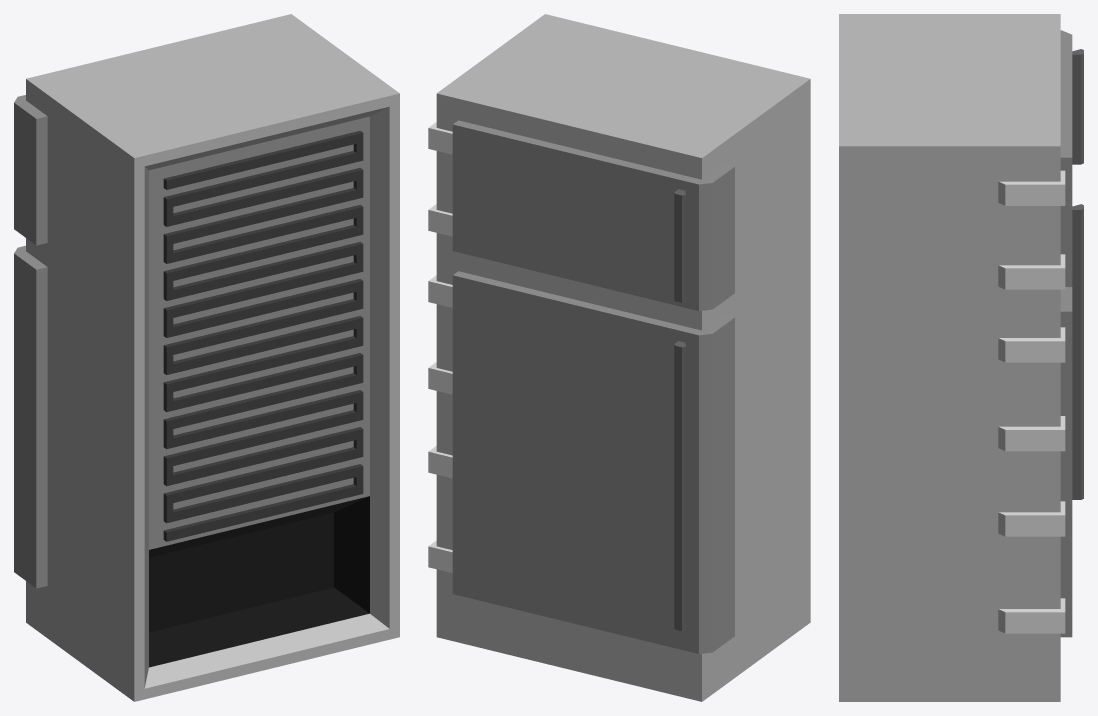
File: fridge_A.FBX
3 views of the same model, side by side, from view 1: azimuth 30°, elevation 25°; view 2: azimuth 150°, elevation 25°; view 3: azimuth 270°, elevation 25° (orthographic). The views are drawn at different scales.
Parts seen in each view (by area): view 1: fridge_A; view 2: fridge_A; view 3: fridge_A.
Part boxes in pixels (x1,y1,x2,y2): fridge_A: (14,14,399,701); fridge_A: (428,14,810,701); fridge_A: (839,14,1083,701).
Bounding box in the file's own units: 68.19 × 125 × 50.07.
